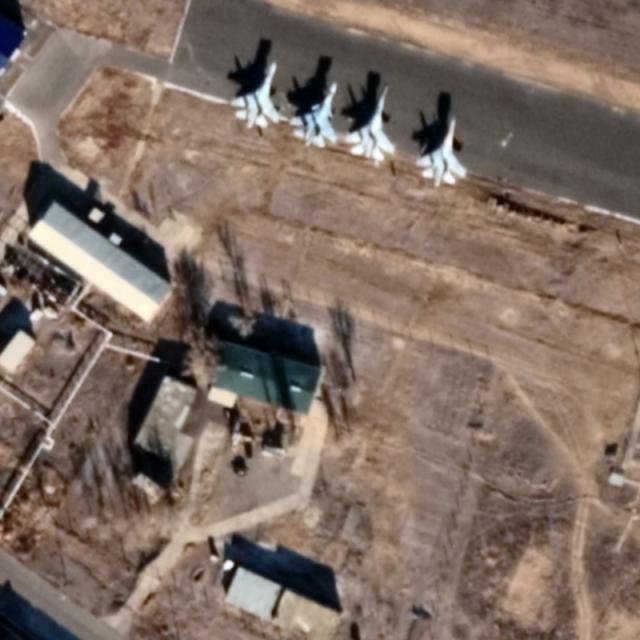fighter jet: (222, 52, 284, 137), (410, 104, 468, 192), (351, 82, 398, 171), (291, 72, 339, 157)
